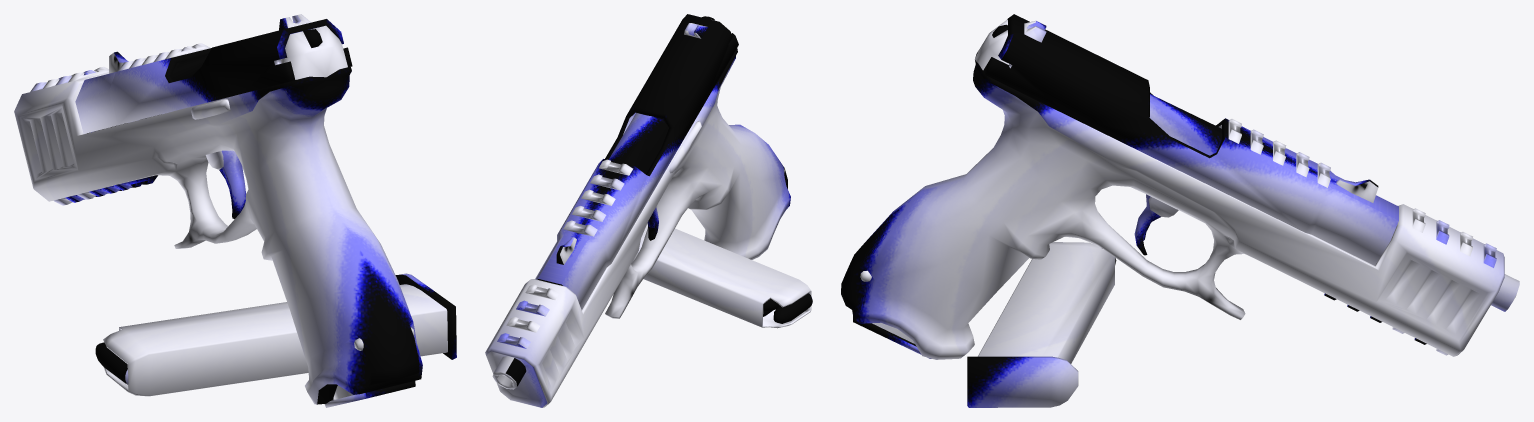
Rendered from pistol.glb.
The picture shows the model from 3 angles, left to right: view 1: azimuth 30°, elevation 25°; view 2: azimuth 150°, elevation 25°; view 3: azimuth 270°, elevation 25°; orthographic projection. The views are drawn at different scales.
Parts seen in each view (by area): view 1: Frame_low, Clip_low, Slide_low, Trigger_low, Ejector_low, Slide Stop_low; view 2: Frame_low, Slide_low, Clip_low, Ejector_low, Slide Stop_low; view 3: Frame_low, Slide_low, Clip_low, Ejector_low, Trigger_low.
Boxes of the visible parts, box(x1,y1,x2,y2) form: Frame_low: box(14, 25, 422, 407); Clip_low: box(95, 273, 456, 396); Slide_low: box(75, 14, 352, 133); Trigger_low: box(205, 150, 245, 218); Ejector_low: box(171, 54, 207, 81); Slide Stop_low: box(191, 99, 230, 119); Frame_low: box(485, 15, 790, 407); Slide_low: box(535, 14, 738, 310); Clip_low: box(631, 223, 812, 328); Ejector_low: box(608, 113, 668, 174); Slide Stop_low: box(669, 121, 701, 173); Frame_low: box(841, 19, 1519, 359); Slide_low: box(983, 14, 1398, 265); Clip_low: box(967, 242, 1116, 407); Ejector_low: box(1149, 94, 1222, 155); Trigger_low: box(1134, 194, 1178, 255).
Bounding box in the file's own units: 0.1174 × 0.1345 × 0.2531.
1 material, 1 textured.
